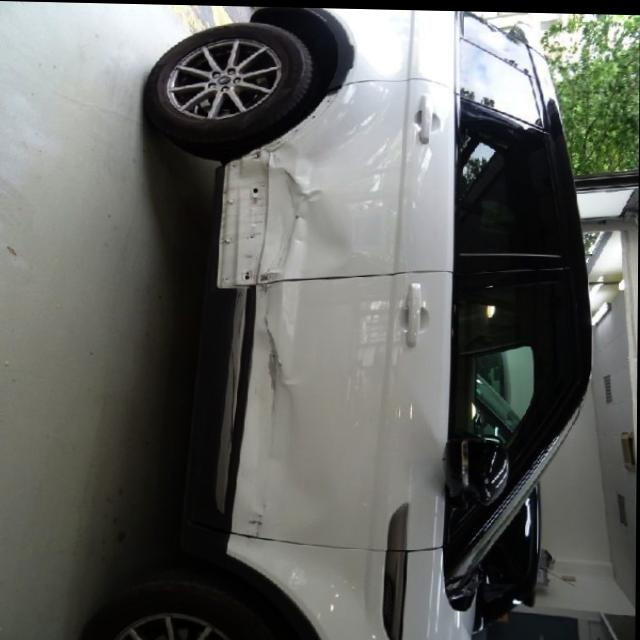porte-avant: (185, 258, 575, 547)
